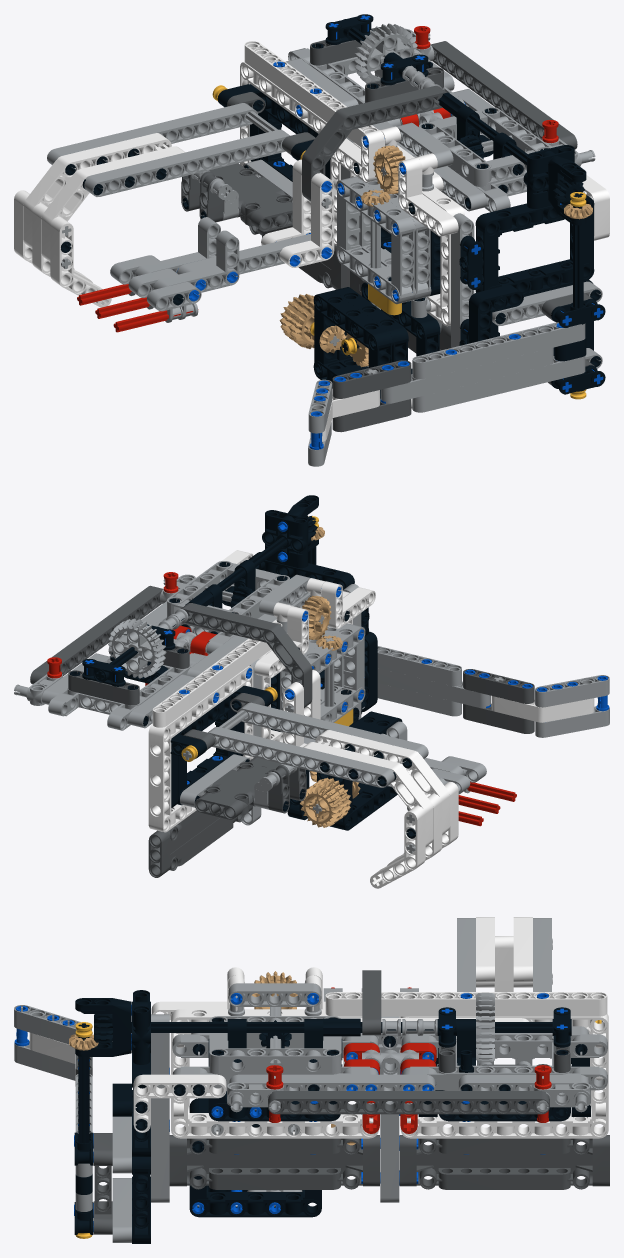
File: eso0.glb
3 renders of one model, top to bottom at view 1: azimuth 30°, elevation 25°; view 2: azimuth 150°, elevation 25°; view 3: azimuth 270°, elevation 25°, orthographic. The views are drawn at different scales.
Parts seen in each view (by area): view 1: Inner-Node-National2__ROSSO__finito_dot_io-127.001, Inner-Node-National2__ROSSO__finito_dot_io-175.001, Inner-Node-National2__ROSSO__finito_dot_io-262.001, Inner-Node-National2__ROSSO__finito_dot_io-41.001, Inner-Node-National2__ROSSO__finito_dot_io-223.001, Inner-Node-National2__ROSSO__finito_dot_io-38.001, Inner-Node-National2__ROSSO__finito_dot_io-163.001, Inner-Node-National2__ROSSO__finito_dot_io-130.001, Inner-Node-National2__ROSSO__finito_dot_io-263.001, Inner-Node-National2__ROSSO__finito_dot_io-261.001, Inner-Node-National2__ROSSO__finito_dot_io-244.001, Inner-Node-National2__ROSSO__finito_dot_io-218.001 (+55 smaller); view 2: Inner-Node-National2__ROSSO__finito_dot_io-53.001, Inner-Node-National2__ROSSO__finito_dot_io-261.001, Inner-Node-National2__ROSSO__finito_dot_io-41.001, Inner-Node-National2__ROSSO__finito_dot_io-63.001, Inner-Node-National2__ROSSO__finito_dot_io-88.001, Inner-Node-National2__ROSSO__finito_dot_io-127.001, Inner-Node-National2__ROSSO__finito_dot_io-163.001, Inner-Node-National2__ROSSO__finito_dot_io-244.001, Inner-Node-National2__ROSSO__finito_dot_io-262.001, Inner-Node-National2__ROSSO__finito_dot_io-270.001, Inner-Node-National2__ROSSO__finito_dot_io-8.001, Inner-Node-National2__ROSSO__finito_dot_io-38.001 (+41 smaller); view 3: Inner-Node-National2__ROSSO__finito_dot_io-63.001, Inner-Node-National2__ROSSO__finito_dot_io-64.001, Inner-Node-National2__ROSSO__finito_dot_io-163.001, Inner-Node-National2__ROSSO__finito_dot_io-88.001, Inner-Node-National2__ROSSO__finito_dot_io-53.001, Inner-Node-National2__ROSSO__finito_dot_io-59.001, Inner-Node-National2__ROSSO__finito_dot_io-8.001, Inner-Node-National2__ROSSO__finito_dot_io-38.001, Inner-Node-National2__ROSSO__finito_dot_io-128.001, Inner-Node-National2__ROSSO__finito_dot_io-71.001, Inner-Node-National2__ROSSO__finito_dot_io-164.001, Inner-Node-National2__ROSSO__finito_dot_io-174.001 (+47 smaller).
Part boxes in pixels (x1,y1,x2,y2): Inner-Node-National2__ROSSO__finito_dot_io-127.001: (336,176,415,304); Inner-Node-National2__ROSSO__finito_dot_io-175.001: (475,192,594,295); Inner-Node-National2__ROSSO__finito_dot_io-262.001: (84,129,289,196); Inner-Node-National2__ROSSO__finito_dot_io-41.001: (302,86,446,201); Inner-Node-National2__ROSSO__finito_dot_io-223.001: (412,322,585,379); Inner-Node-National2__ROSSO__finito_dot_io-38.001: (419,107,551,186); Inner-Node-National2__ROSSO__finito_dot_io-163.001: (430,41,577,149); Inner-Node-National2__ROSSO__finito_dot_io-130.001: (313,290,392,398); Inner-Node-National2__ROSSO__finito_dot_io-263.001: (23,133,171,248); Inner-Node-National2__ROSSO__finito_dot_io-261.001: (47,103,257,164); Inner-Node-National2__ROSSO__finito_dot_io-244.001: (209,163,292,231); Inner-Node-National2__ROSSO__finito_dot_io-218.001: (412,356,585,412); Inner-Node-National2__ROSSO__finito_dot_io-53.001: (148,665,253,832); Inner-Node-National2__ROSSO__finito_dot_io-261.001: (208,727,394,787); Inner-Node-National2__ROSSO__finito_dot_io-41.001: (181,603,312,707); Inner-Node-National2__ROSSO__finito_dot_io-63.001: (148,805,252,877); Inner-Node-National2__ROSSO__finito_dot_io-88.001: (152,622,282,727); Inner-Node-National2__ROSSO__finito_dot_io-127.001: (304,623,365,722); Inner-Node-National2__ROSSO__finito_dot_io-163.001: (30,585,162,684); Inner-Node-National2__ROSSO__finito_dot_io-244.001: (194,757,281,819); Inner-Node-National2__ROSSO__finito_dot_io-262.001: (237,702,428,758); Inner-Node-National2__ROSSO__finito_dot_io-270.001: (315,730,450,834); Inner-Node-National2__ROSSO__finito_dot_io-8.001: (48,653,206,730); Inner-Node-National2__ROSSO__finito_dot_io-38.001: (167,561,289,618); Inner-Node-National2__ROSSO__finito_dot_io-63.001: (399,1135,609,1189); Inner-Node-National2__ROSSO__finito_dot_io-64.001: (169,1135,379,1189); Inner-Node-National2__ROSSO__finito_dot_io-163.001: (268,1091,549,1114); Inner-Node-National2__ROSSO__finito_dot_io-88.001: (325,992,607,1016); Inner-Node-National2__ROSSO__finito_dot_io-53.001: (400,1013,608,1138); Inner-Node-National2__ROSSO__finito_dot_io-59.001: (171,1009,378,1138); Inner-Node-National2__ROSSO__finito_dot_io-8.001: (401,1033,607,1090); Inner-Node-National2__ROSSO__finito_dot_io-38.001: (209,1016,341,1073); Inner-Node-National2__ROSSO__finito_dot_io-128.001: (189,1124,321,1217); Inner-Node-National2__ROSSO__finito_dot_io-71.001: (150,1014,169,1202); Inner-Node-National2__ROSSO__finito_dot_io-164.001: (229,1074,435,1096); Inner-Node-National2__ROSSO__finito_dot_io-174.001: (133,1074,226,1132).
Bounding box in the file's own units: 21.67 × 12.25 × 24.89.
